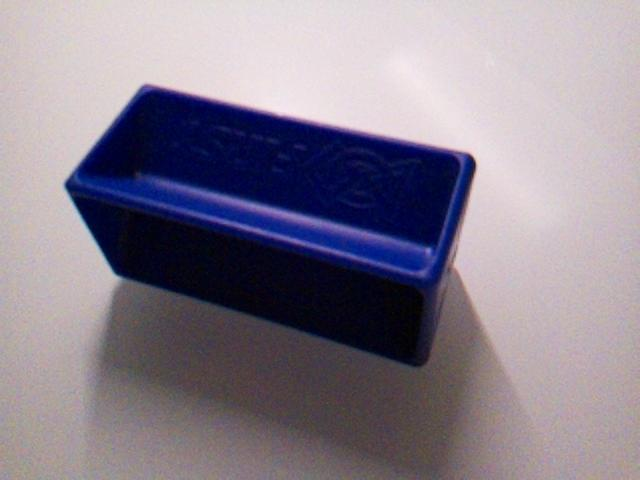blue: (64, 82, 478, 368)
